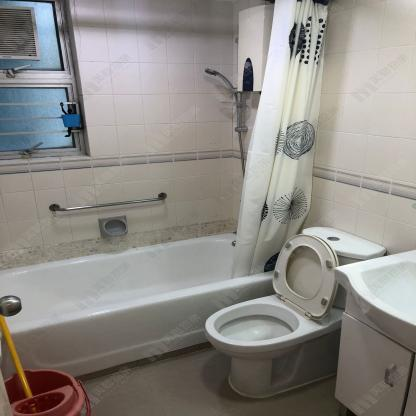Bathtub: (0, 228, 278, 378)
Exhaust Fan: (0, 3, 39, 59)
Toilet: (202, 224, 389, 397)
Toilet Sink: (335, 249, 416, 350)
